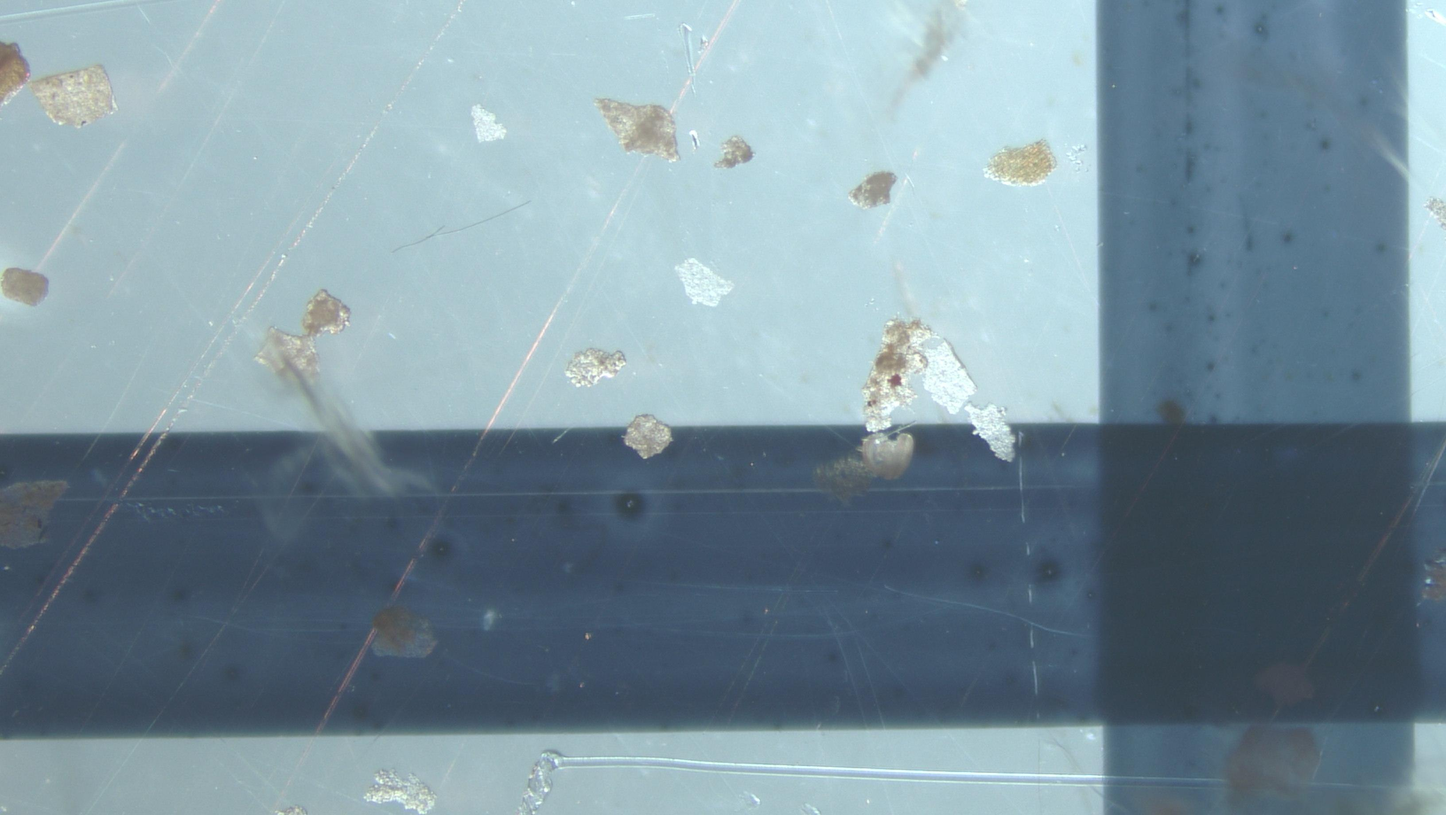live: (861, 433, 914, 480)
